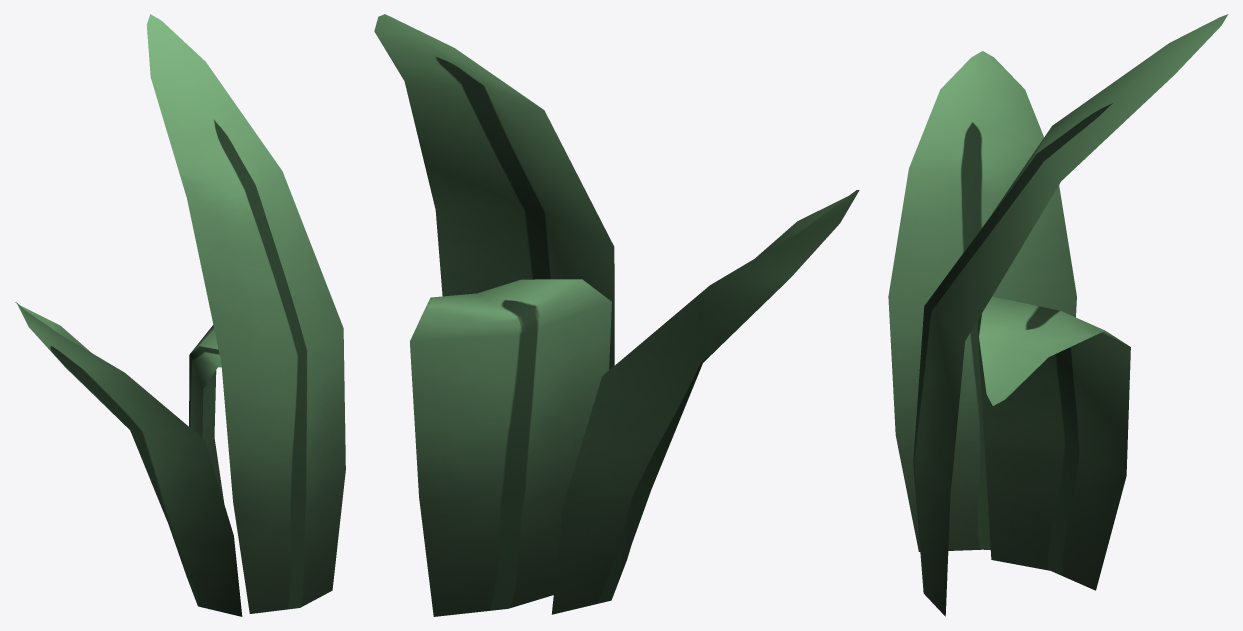
Rendered from cesped_3_v3.fbx.
3 views of the same model, side by side, from view 1: azimuth 30°, elevation 25°; view 2: azimuth 150°, elevation 25°; view 3: azimuth 270°, elevation 25° (orthographic). The views are drawn at different scales.
Parts seen in each view (by area): view 1: cesped_3_v3; view 2: cesped_3_v3; view 3: cesped_3_v3.
Boxes of the visible parts, <box> form: cesped_3_v3: <box>15,14,345,616</box>; cesped_3_v3: <box>374,14,859,616</box>; cesped_3_v3: <box>888,14,1228,616</box>.
Bounding box in the file's own units: 5.33 × 6.6 × 9.87.
